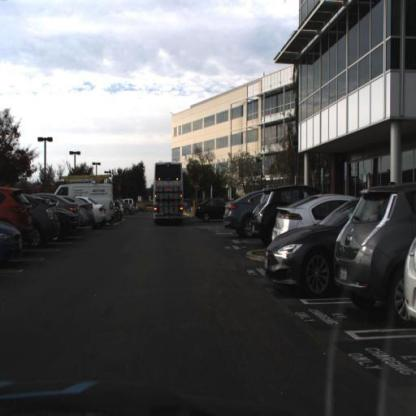car: (334, 180, 416, 320), (264, 212, 337, 295), (270, 191, 332, 241), (2, 187, 38, 263), (251, 182, 286, 243), (27, 193, 59, 250), (223, 189, 257, 240), (34, 197, 61, 250), (195, 196, 226, 226), (195, 195, 222, 224), (72, 196, 96, 227), (61, 195, 80, 229), (59, 208, 79, 239), (58, 211, 80, 235), (81, 199, 96, 226), (94, 203, 107, 228), (97, 201, 108, 229)
truck: (152, 158, 188, 229), (103, 174, 116, 229), (105, 179, 116, 226)
